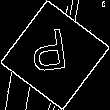P_S: (33, 27, 77, 83)
